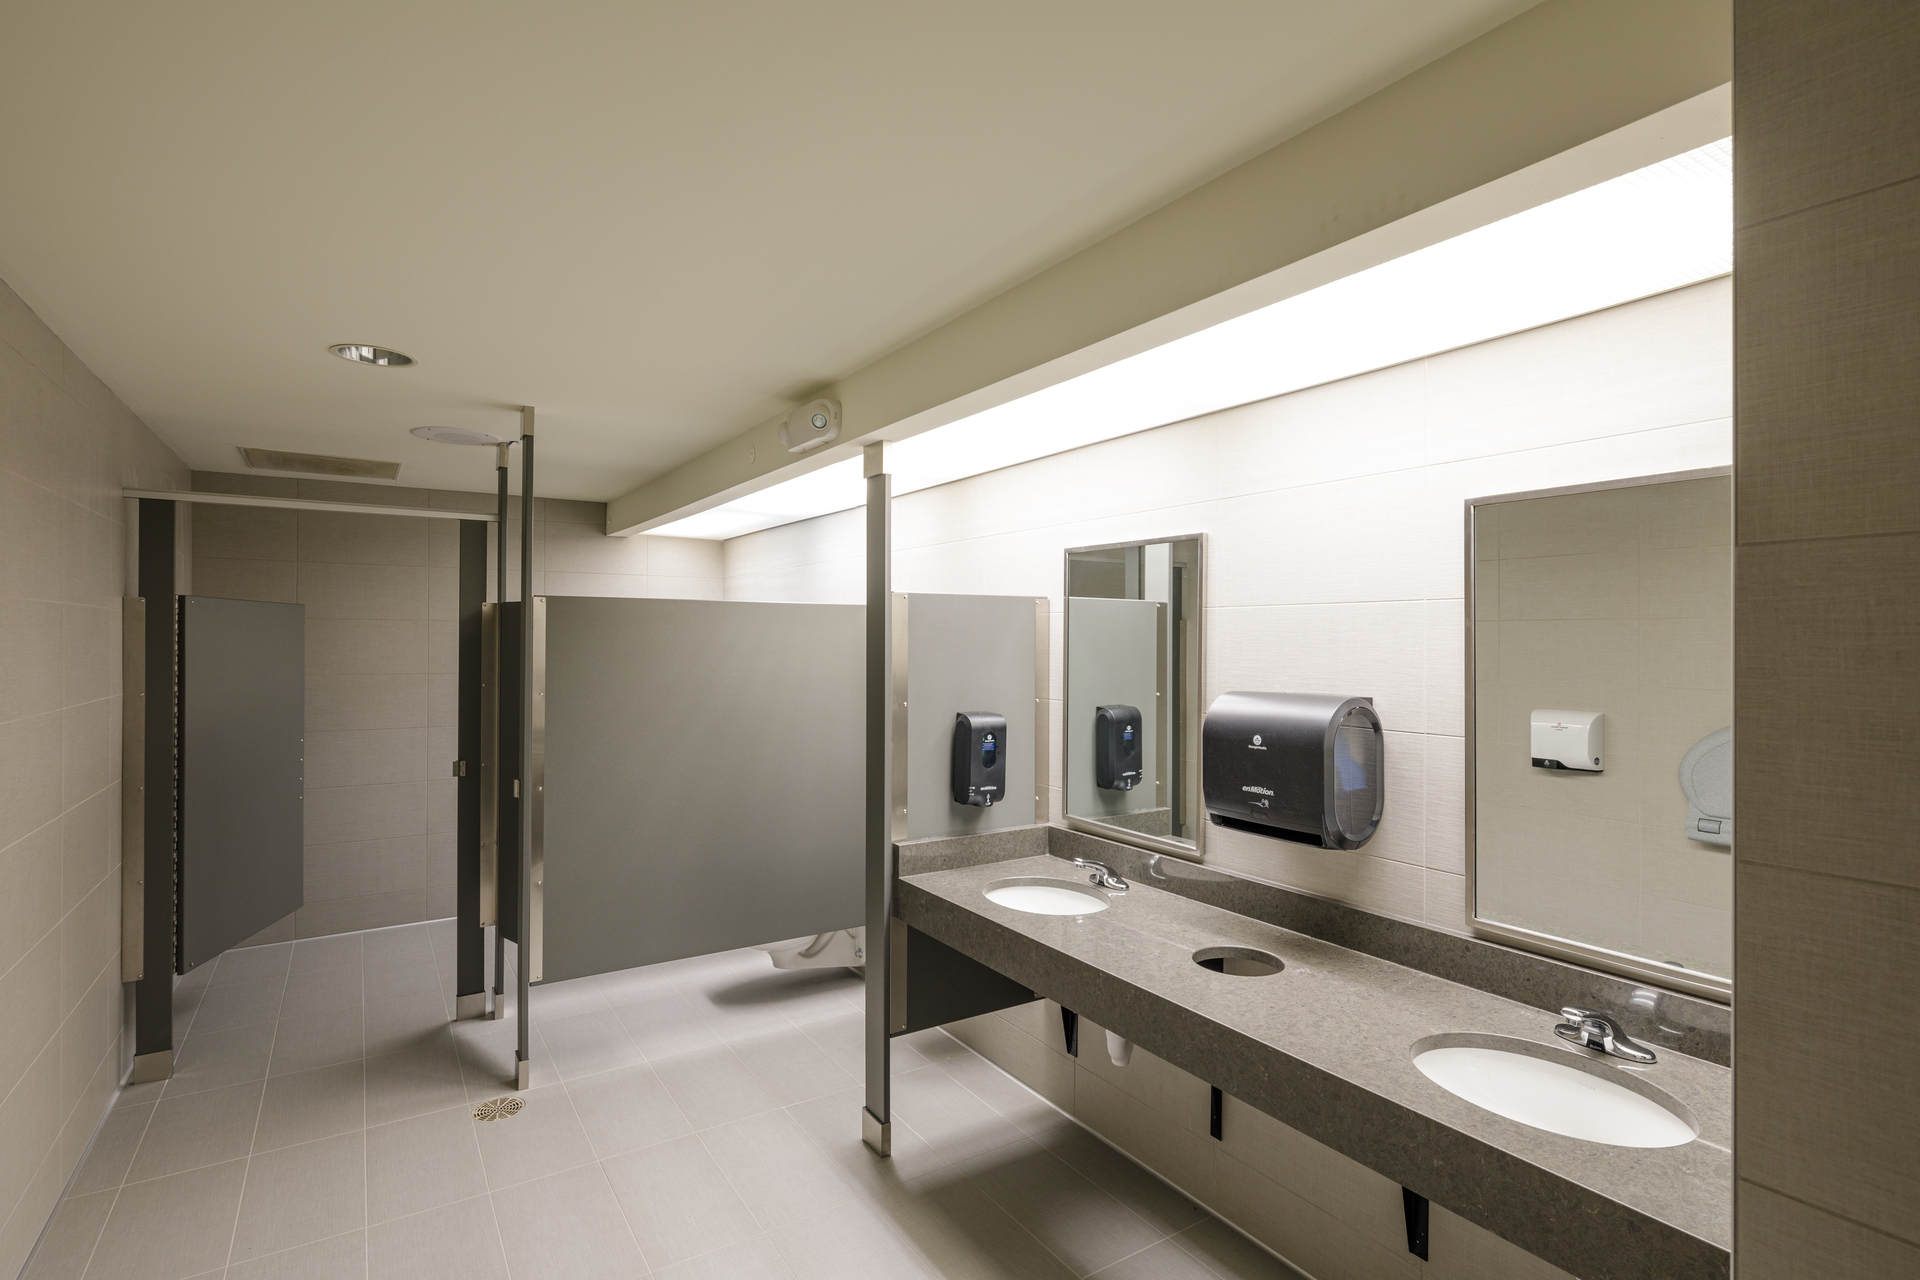counter: (903, 839, 1731, 1251)
countertop: (897, 834, 1731, 1280)
dispenser: (1197, 690, 1397, 859), (1087, 700, 1164, 810), (954, 706, 1007, 823), (1521, 706, 1617, 769)
door_handle: (510, 774, 526, 807)
faucet: (1550, 994, 1669, 1073), (1071, 854, 1131, 891)
sink: (1407, 1031, 1703, 1156), (981, 871, 1117, 919)
toilet: (750, 926, 867, 970)
